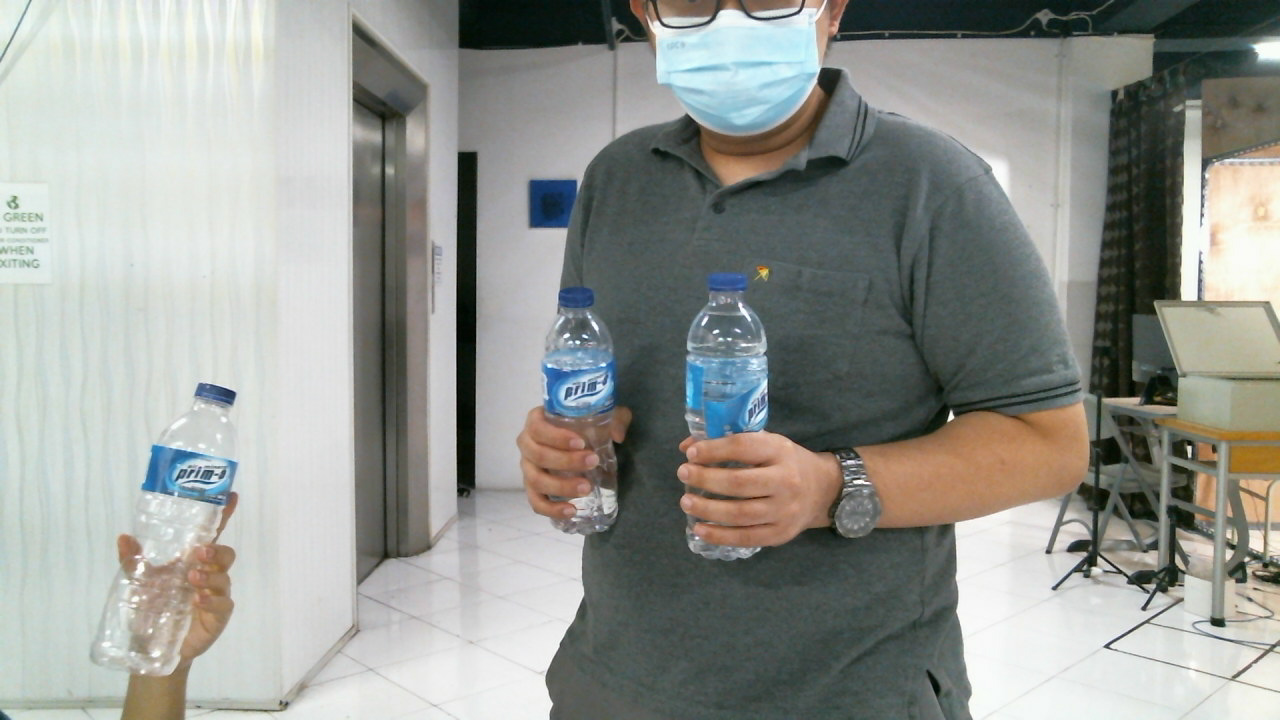Bottle: (89, 381, 239, 667), (680, 275, 771, 563), (541, 288, 621, 536)
